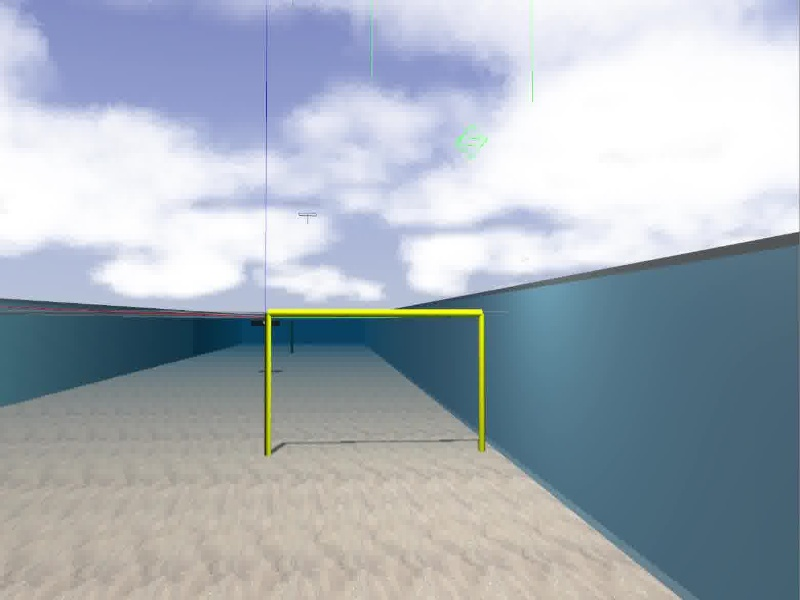gate: (264, 307, 486, 457)
